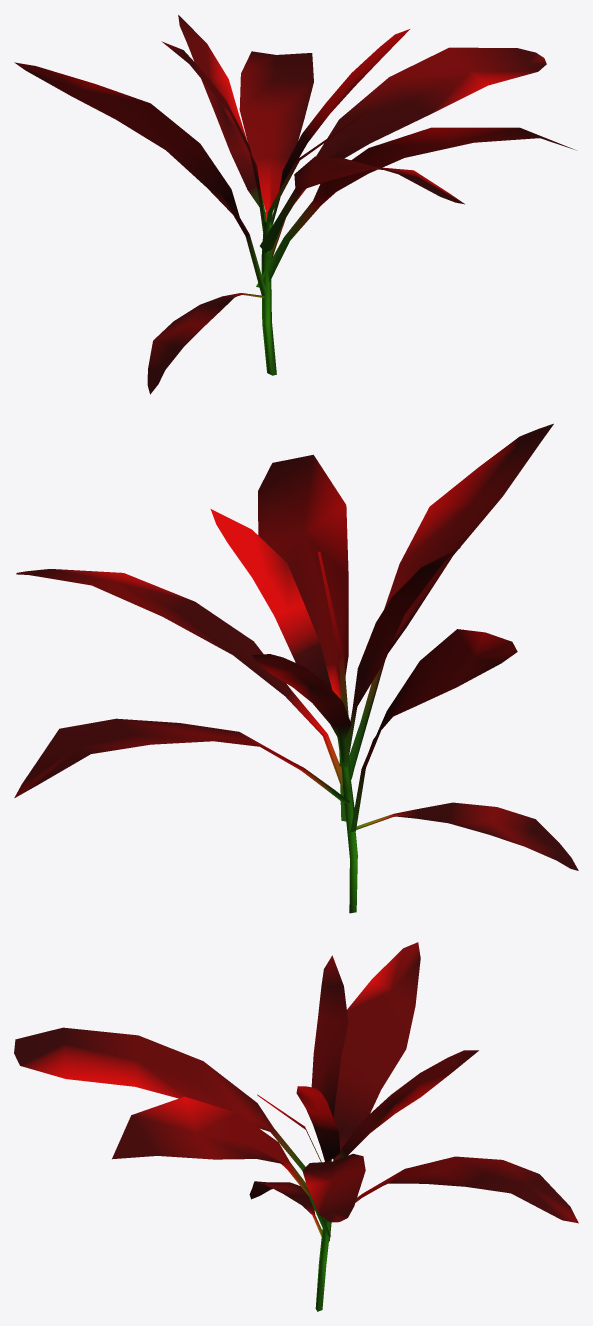
Rendered from Var9_LOD1.fbx.
The picture shows the model from 3 angles, top to bottom: view 1: azimuth 30°, elevation 25°; view 2: azimuth 150°, elevation 25°; view 3: azimuth 270°, elevation 25°; orthographic projection. The views are drawn at different scales.
Parts seen in each view (by area): view 1: _4c6d_Var9_LOD1; view 2: _4c6d_Var9_LOD1; view 3: _4c6d_Var9_LOD1.
Boxes of the visible parts, box(x1,y1,x2,y2) form: _4c6d_Var9_LOD1: box(14, 15, 576, 394); _4c6d_Var9_LOD1: box(14, 423, 578, 913); _4c6d_Var9_LOD1: box(14, 942, 578, 1311).
Size of the model in its own units: 37.79 by 26.28 by 43.32.
